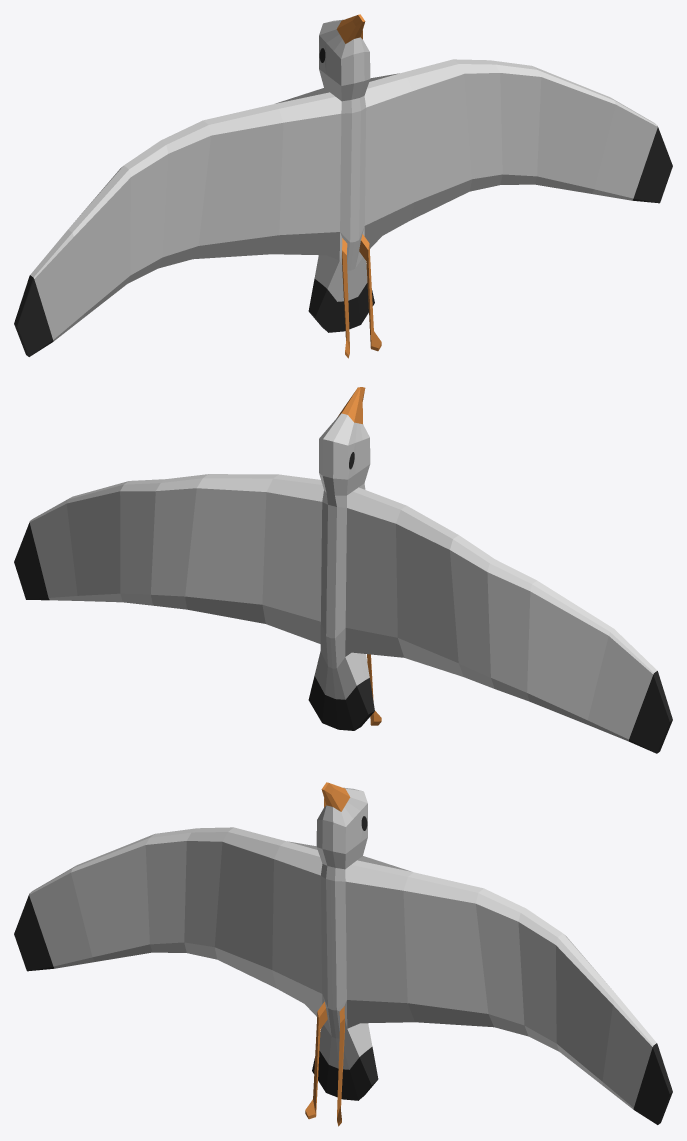
The model's file is seagull2.fbx.
3 renders of one model, top to bottom at view 1: azimuth 30°, elevation 25°; view 2: azimuth 150°, elevation 25°; view 3: azimuth 330°, elevation 25°, orthographic.
Visible parts, largest first — view 1: seagull; view 2: seagull; view 3: seagull.
Boxes of the visible parts, x1,y1,x2,y2 form: seagull: [14, 14, 672, 358]; seagull: [14, 387, 672, 753]; seagull: [14, 782, 672, 1126].
Bounding box in the file's own units: 288 × 142 × 32.97.
